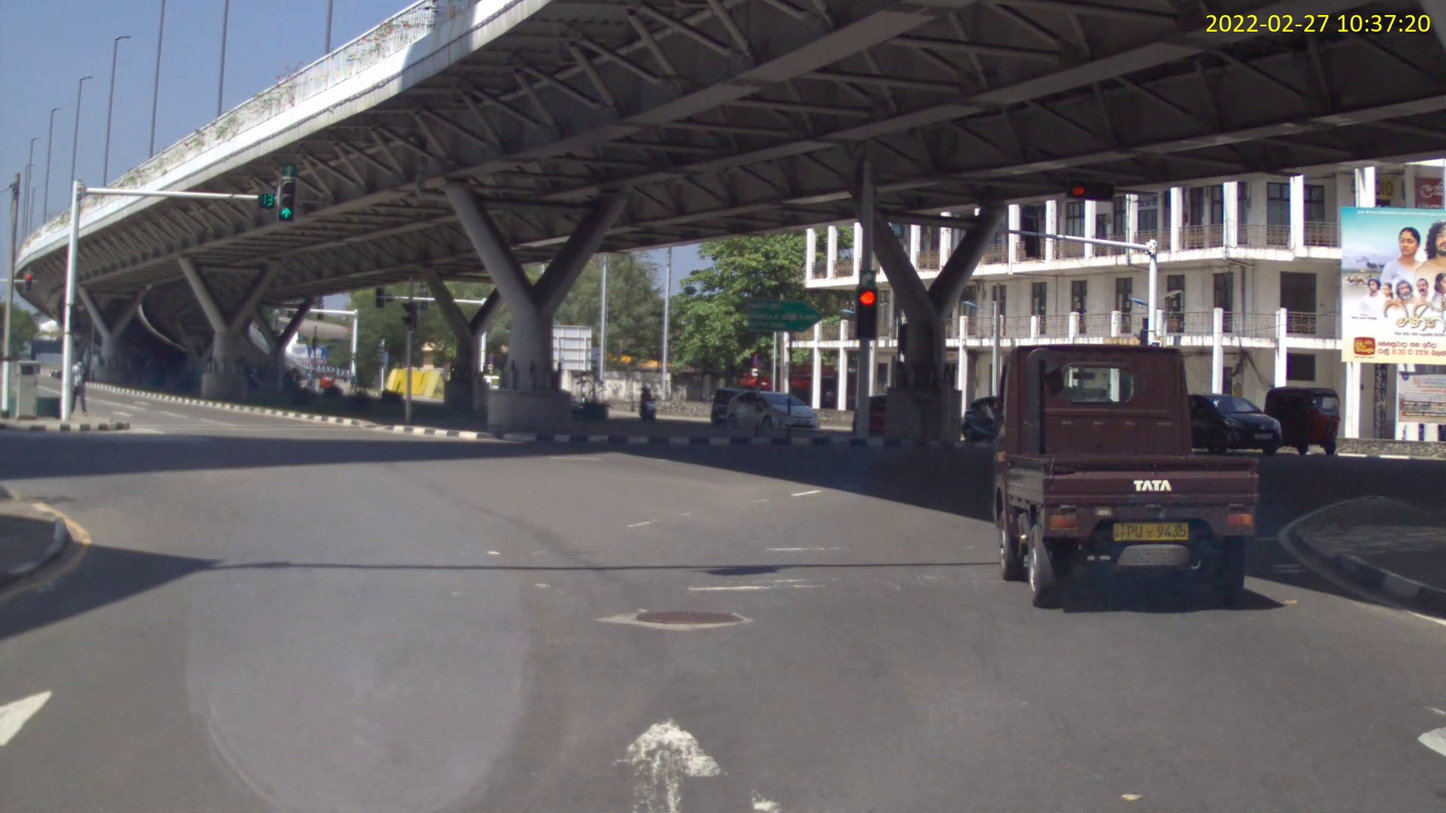green: (259, 191, 274, 207)
red: (276, 175, 297, 224)
